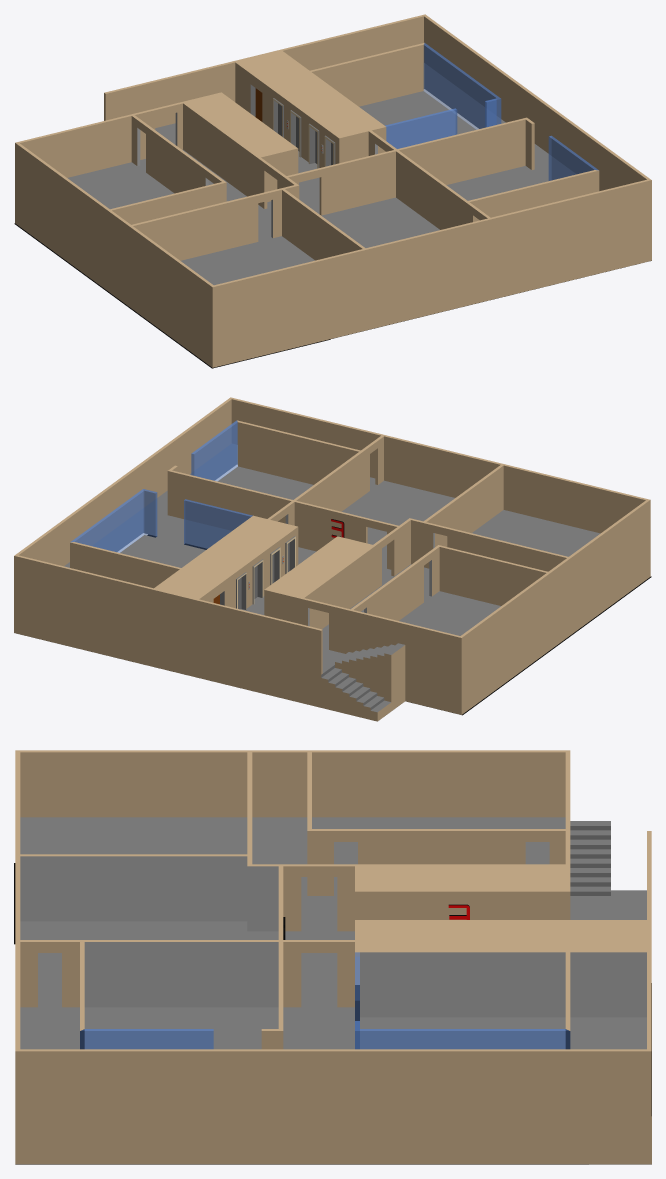
File: 3F-coloredNhan.gltf
The picture shows the model from 3 angles, top to bottom: view 1: azimuth 30°, elevation 25°; view 2: azimuth 150°, elevation 25°; view 3: azimuth 270°, elevation 25°; orthographic projection. The views are drawn at different scales.
Parts seen in each view (by area): view 1: root; view 2: root; view 3: root.
Boxes of the visible parts, bbox=[...] form: root: bbox=[14, 14, 651, 368]; root: bbox=[14, 397, 651, 721]; root: bbox=[14, 750, 651, 1164].
Size of the model in its own units: 29.86 by 5.23 by 26.67.
